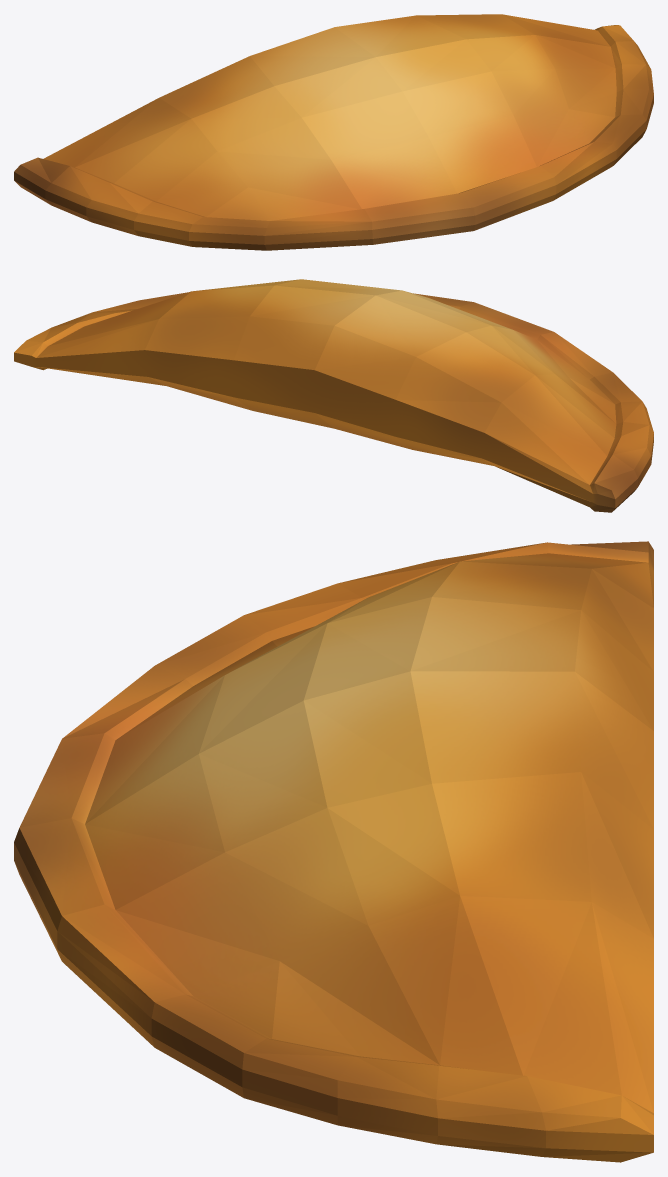
The model's file is empanada.obj.
The picture shows the model from 3 angles, top to bottom: view 1: azimuth 30°, elevation 25°; view 2: azimuth 150°, elevation 25°; view 3: azimuth 270°, elevation 25°; orthographic projection. The views are drawn at different scales.
Size of the model in its own units: 5.77 by 1.08 by 2.67.
1 material, 1 textured.
